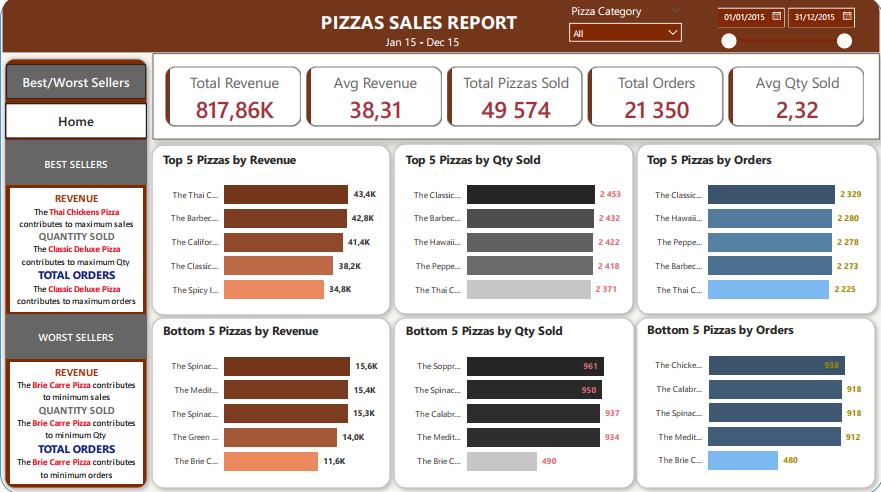

The page's visual inventory and layout, read from the dashboard file:
{"tool":"powerbi","page":{"name":"Best/Worst Sellers","canvas":[1280,720],"ordinal":1},"visuals":[{"type":"shape","box":[1.5,0,1279.1,720.9],"z":0},{"type":"cardVisual","fields":{"Data":["pizzas_sales.Total Revenue","pizzas_sales.Avg Revenue","pizzas_sales.Total Pizzas Sold","pizzas_sales.Total Orders","pizzas_sales.Avg Qty Sold"]},"box":[222.4,80.6,1053.7,125],"z":1000},{"type":"shape","box":[4,0,1272,80],"z":2000},{"type":"cardVisual","fields":{"Data":["pizzas_sales.Title"]},"box":[437.3,0,409,64.2],"z":3000},{"type":"cardVisual","fields":{"Data":["pizzas_sales.Period report"]},"box":[531.3,34.3,177.6,56.7],"z":4000},{"type":"shape","box":[0,80.6,222.4,638.8],"z":5000},{"type":"textbox","box":[16,277,192,179.1],"z":6000},{"type":"cardVisual","fields":{"Data":["pizzas_sales.Panel 3"]},"box":[9,208,204,64.3],"z":7000},{"type":"cardVisual","fields":{"Data":["pizzas_sales.Panel 4"]},"box":[8.9,460,204.5,64.3],"z":8000},{"type":"slicer","fields":{"Values":["pizzas_sales.pizza_category"]},"box":[816.3,4,182.7,70],"z":9000},{"type":"slicer","fields":{"Values":["pizzas_sales.order_date"]},"box":[1028.6,5.1,217.3,75.5],"z":10000},{"type":"shape","box":[213.3,206.1,361,262],"z":11000},{"type":"shape","box":[565.3,205.1,361,262],"z":12000},{"type":"shape","box":[917,205.1,362,262],"z":13000},{"type":"shape","box":[915.3,457.1,361.2,262.2],"z":14000},{"type":"shape","box":[565.3,457.1,361.2,262.2],"z":15000},{"type":"shape","box":[213.3,457.1,361.2,262.2],"z":16000},{"type":"barChart","title":"Top 5 Pizzas by Revenue","fields":{"Category":["pizzas_sales.pizza_name"],"Y":["pizzas_sales.Total Revenue"]},"box":[231.6,223.5,323.5,233.7],"z":17000},{"type":"barChart","title":"Bottom 5 Pizzas by Revenue","fields":{"Category":["pizzas_sales.pizza_name"],"Y":["pizzas_sales.Total Revenue"]},"box":[231.6,472.4,323.5,233.7],"z":18000},{"type":"barChart","title":"Top 5 Pizzas by Qty Sold","fields":{"Category":["pizzas_sales.pizza_name"],"Y":["pizzas_sales.Total Pizzas Sold"]},"box":[583.7,223.5,323.5,233.7],"z":19000},{"type":"barChart","title":"Bottom 5 Pizzas by Qty Sold","fields":{"Category":["pizzas_sales.pizza_name"],"Y":["pizzas_sales.Total Pizzas Sold"]},"box":[583.7,472.4,323.5,233.7],"z":20000},{"type":"barChart","title":"Top 5 Pizzas by Orders","fields":{"Category":["pizzas_sales.pizza_name"],"Y":["pizzas_sales.Total Orders"]},"box":[933.7,223.5,323.5,233.7],"z":21000},{"type":"barChart","title":"Bottom 5 Pizzas by Orders","fields":{"Category":["pizzas_sales.pizza_name"],"Y":["pizzas_sales.Total Orders"]},"box":[933.7,471.4,323.5,233.7],"z":22000},{"type":"textbox","box":[16,529,191.8,177],"z":23000},{"type":"pageNavigator","box":[10,97,202,50.7],"z":24000},{"type":"pageNavigator","box":[9,153.7,204.5,50.7],"z":25000}]}

Visuals, with their boxes in screenshot pixels (x1, y1, x2, y2), scaled from the page's 1280x720 canvas onto the 881x492 screenshot:
shape: (1,0,880,491)
cardVisual - pizzas_sales.Total Revenue x pizzas_sales.Avg Revenue: (153,55,878,140)
shape: (3,0,878,55)
cardVisual - pizzas_sales.Title: (301,0,582,44)
cardVisual - pizzas_sales.Period report: (366,23,488,62)
shape: (0,55,153,491)
textbox: (11,189,143,312)
cardVisual - pizzas_sales.Panel 3: (6,142,147,186)
cardVisual - pizzas_sales.Panel 4: (6,314,147,358)
slicer - pizzas_sales.pizza_category: (562,3,688,51)
slicer - pizzas_sales.order_date: (708,3,858,55)
shape: (147,141,395,320)
shape: (389,140,638,319)
shape: (631,140,880,319)
shape: (630,312,879,491)
shape: (389,312,638,491)
shape: (147,312,395,491)
"Top 5 Pizzas by Revenue" barChart: (159,153,382,312)
"Bottom 5 Pizzas by Revenue" barChart: (159,323,382,483)
"Top 5 Pizzas by Qty Sold" barChart: (402,153,624,312)
"Bottom 5 Pizzas by Qty Sold" barChart: (402,323,624,483)
"Top 5 Pizzas by Orders" barChart: (643,153,865,312)
"Bottom 5 Pizzas by Orders" barChart: (643,322,865,482)
textbox: (11,361,143,482)
pageNavigator: (7,66,146,101)
pageNavigator: (6,105,147,140)
